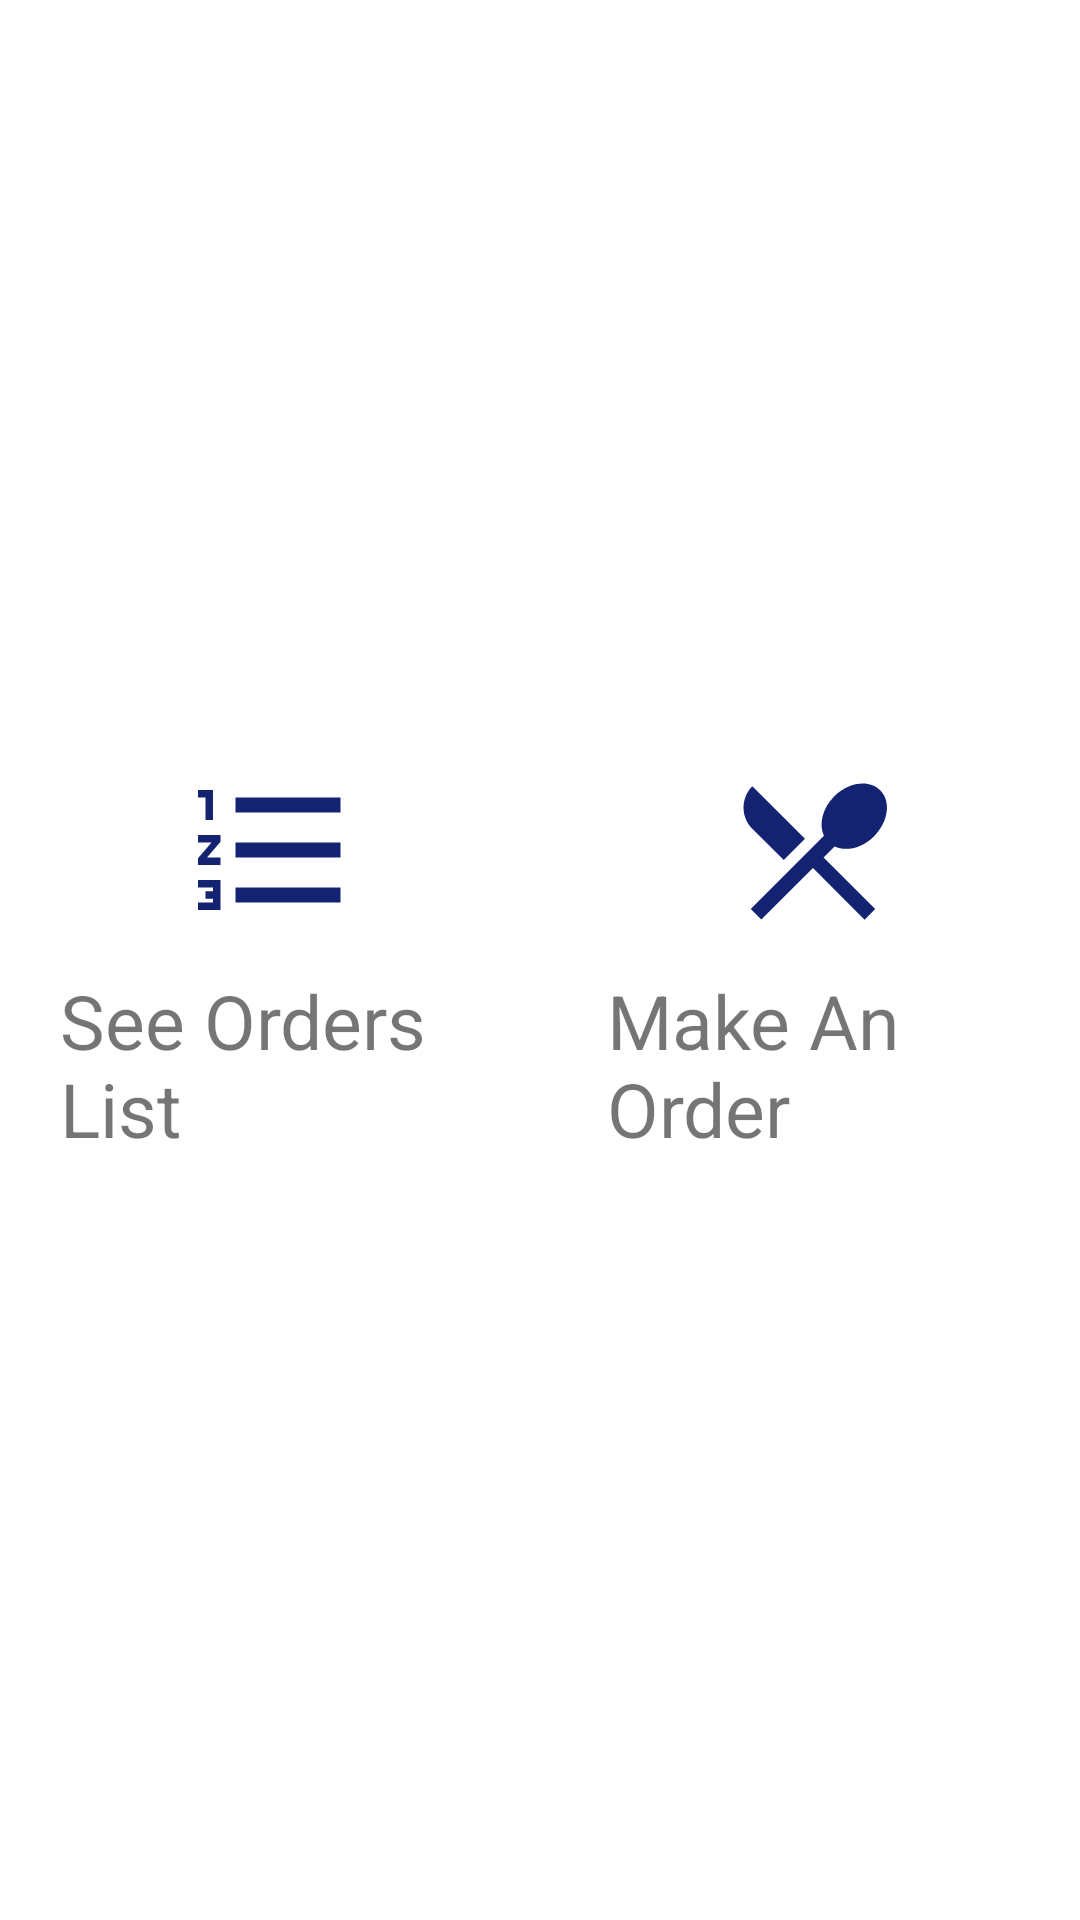

Locate icon controls on the screen. Image size 1080 × 1920, boxes as Rect(x1, y1, x2, y2).
format list numbered: Rect(198, 790, 341, 910)
restaurant menu: Rect(743, 783, 887, 920)
